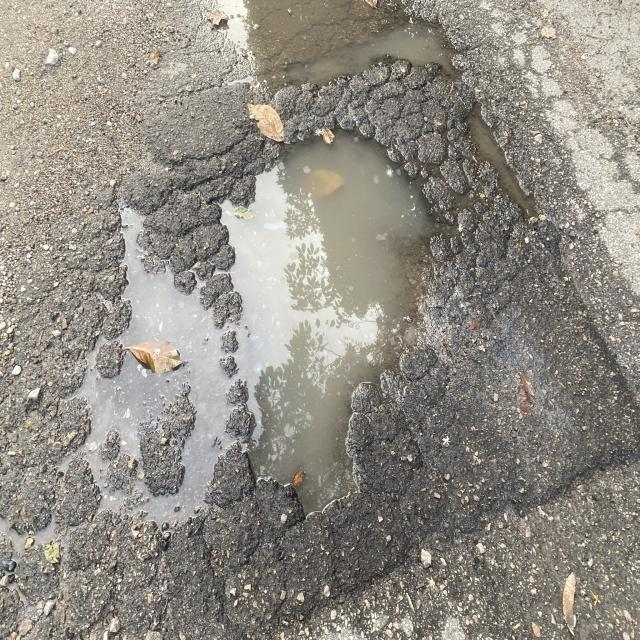pothole: (108, 81, 640, 617)
